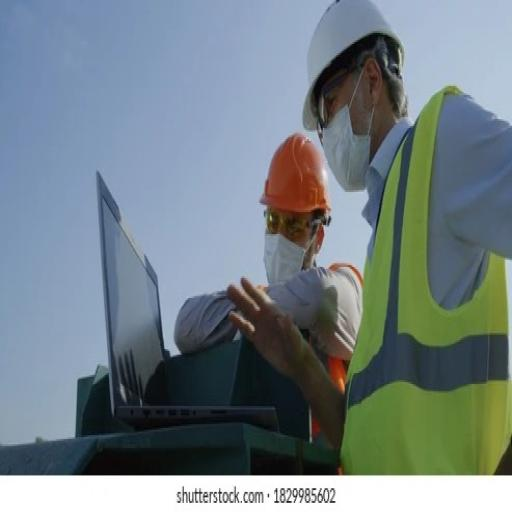mask: (320, 119, 372, 193), (260, 231, 301, 288)
